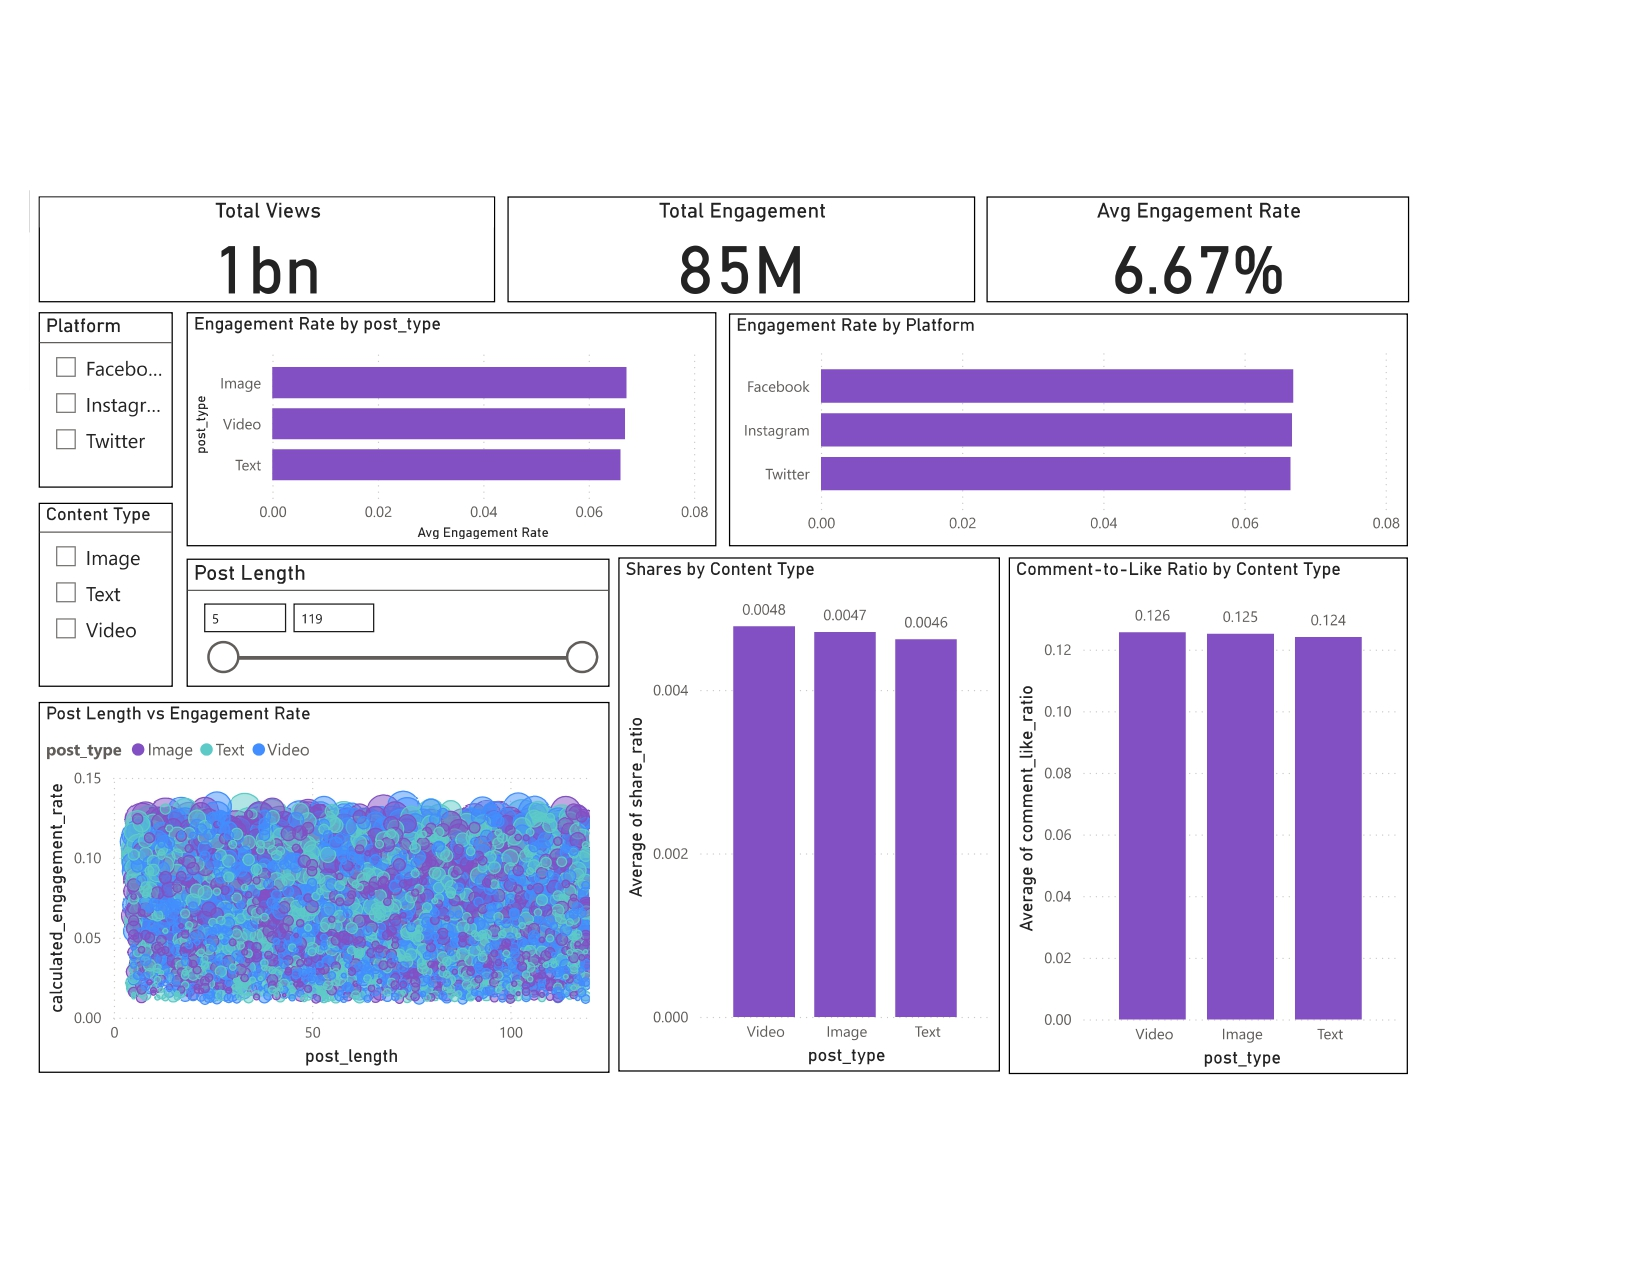

The page's visual inventory and layout, read from the dashboard file:
{"tool":"powerbi","page":{"name":"Page 1","canvas":[1280,720],"ordinal":0},"visuals":[{"type":"card","title":"Avg Engagement Rate","fields":{"Values":["social_media_engagement_dataset.Avg Engagement Rate"]},"box":[769,5,340,85],"z":0},{"type":"card","title":"Total Engagement","fields":{"Values":["social_media_engagement_dataset.Total Engagement"]},"box":[384,5,376,85],"z":1000},{"type":"card","title":"Total Views","fields":{"Values":["social_media_engagement_dataset.Total Views"]},"box":[7,5,367,85],"z":2000},{"type":"clusteredBarChart","title":"Engagement Rate by Platform","fields":{"Category":["social_media_engagement_dataset.platform"],"Y":["Avg(social_media_engagement_dataset.engagement_rate)"]},"box":[562,99,546,187],"z":3000},{"type":"clusteredBarChart","title":"Engagement Rate by post_type","fields":{"Category":["social_media_engagement_dataset.post_type"],"Y":["social_media_engagement_dataset.Avg Engagement Rate"]},"box":[126,98,426,188],"z":4000},{"type":"scatterChart","title":"Post Length vs Engagement Rate","fields":{"X":["social_media_engagement_dataset.post_length"],"Y":["social_media_engagement_dataset.calculated_engagement_rate"],"Series":["social_media_engagement_dataset.post_type"],"Size":["Sum(social_media_engagement_dataset.total_engagement)"]},"box":[7,411,459,298],"z":5000},{"type":"clusteredColumnChart","title":"Shares by Content Type","fields":{"Category":["social_media_engagement_dataset.post_type"],"Y":["Avg(social_media_engagement_dataset.share_ratio)"]},"box":[473,295,307,413],"z":6000},{"type":"clusteredColumnChart","title":"Comment-to-Like Ratio by Content Type","fields":{"Category":["social_media_engagement_dataset.post_type"],"Y":["Avg(social_media_engagement_dataset.comment_like_ratio)"]},"box":[787,295,321,415],"z":7000},{"type":"slicer","title":"Platform","fields":{"Values":["social_media_engagement_dataset.platform"]},"box":[7,98,108,141],"z":8000},{"type":"slicer","title":"Content Type","fields":{"Values":["social_media_engagement_dataset.post_type"]},"box":[7,251,108,148],"z":9000},{"type":"slicer","title":"Post Length","fields":{"Values":["social_media_engagement_dataset.post_length"]},"box":[125.6,295.6,340,103.3],"z":10000}]}

Visuals, with their boxes in screenshot pixels (x1, y1, x2, y2):
"Avg Engagement Rate" card: [986, 195, 1403, 299]
"Total Engagement" card: [514, 195, 975, 299]
"Total Views" card: [52, 195, 502, 299]
"Engagement Rate by Platform" clusteredBarChart: [732, 310, 1402, 540]
"Engagement Rate by post_type" clusteredBarChart: [197, 309, 720, 540]
"Post Length vs Engagement Rate" scatterChart: [52, 693, 614, 1058]
"Shares by Content Type" clusteredColumnChart: [623, 551, 999, 1057]
"Comment-to-Like Ratio by Content Type" clusteredColumnChart: [1008, 551, 1402, 1060]
"Platform" slicer: [52, 309, 184, 482]
"Content Type" slicer: [52, 497, 184, 678]
"Post Length" slicer: [197, 552, 614, 678]
